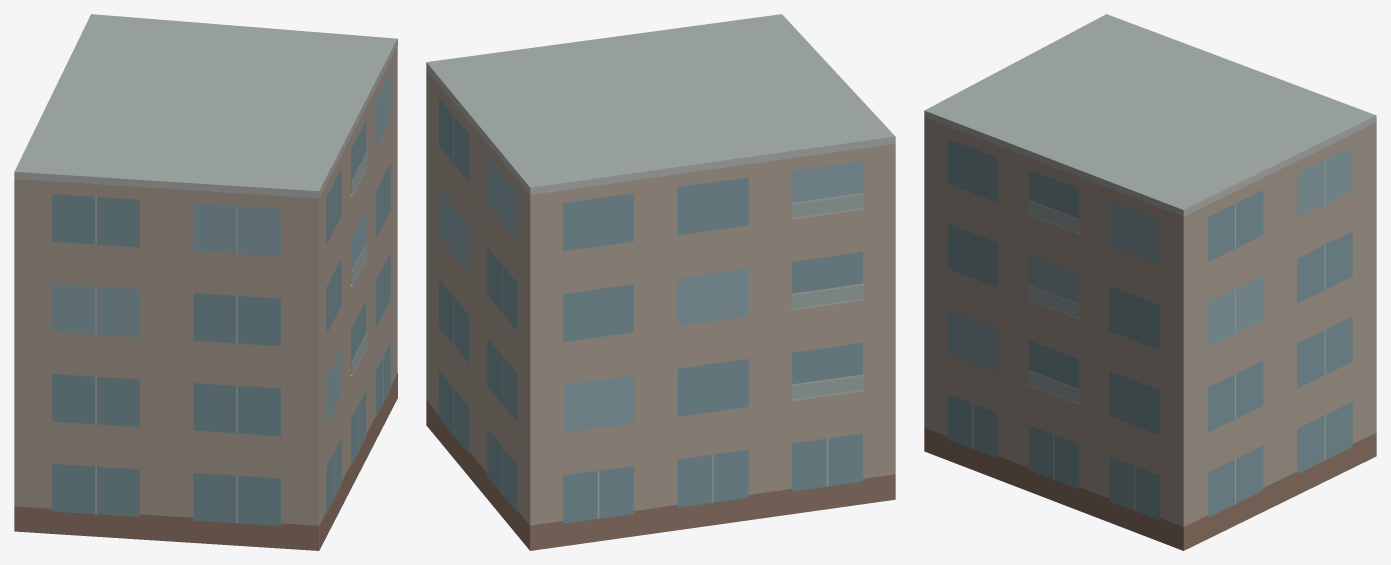
The model's file is survey-upis-32920076.glb.
3 views of the same model, side by side, from view 1: azimuth 30°, elevation 25°; view 2: azimuth 150°, elevation 25°; view 3: azimuth 270°, elevation 25° (orthographic). The views are drawn at different scales.
Visible parts, largest first — view 1: survey-upis-32920076.tmp; view 2: survey-upis-32920076.tmp; view 3: survey-upis-32920076.tmp.
Boxes of the visible parts, x1,y1,x2,y2 form: survey-upis-32920076.tmp: [14, 14, 397, 550]; survey-upis-32920076.tmp: [426, 14, 895, 550]; survey-upis-32920076.tmp: [924, 14, 1376, 550].
Bounding box in the file's own units: 15.06 × 12.2 × 14.68.
